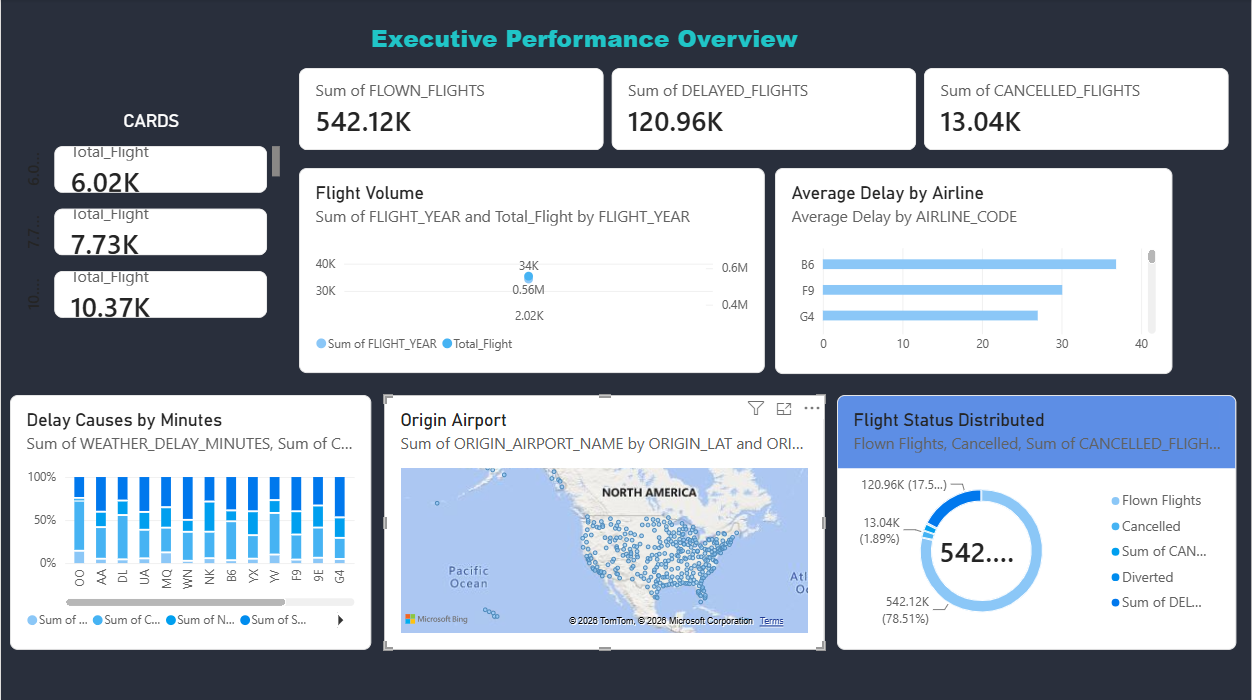

What the dashboard file says about the page in this screenshot:
{"tool":"powerbi","page":{"name":"Page 1","canvas":[1280,720],"ordinal":0},"visuals":[{"type":"textbox","box":[378.8,23.5,477.5,47.1],"z":0},{"type":"cardVisual","title":"CARDS","fields":{"Data":["FACT_FLIGHT_SUMMARY.Total_Flight"],"Rows":["FACT_FLIGHT_SUMMARY.TOTAL_FLIGHTS"]},"box":[21.3,113.2,264.5,221.9],"z":1000},{"type":"cardVisual","fields":{"Data":["Sum(FACT_FLIGHT_SUMMARY.FLOWN_FLIGHTS)","Sum(FACT_FLIGHT_SUMMARY.DELAYED_FLIGHTS)","Sum(FACT_FLIGHT_SUMMARY.CANCELLED_FLIGHTS)"]},"box":[304.9,70.6,953.8,84.1],"z":2000},{"type":"lineChart","title":"Flight Volume","fields":{"Category":["FACT_FLIGHT_SUMMARY.FLIGHT_YEAR"],"Y":["Sum(FACT_FLIGHT_SUMMARY.FLIGHT_YEAR)"],"Y2":["FACT_FLIGHT_SUMMARY.Total_Flight"]},"box":[305.2,173.1,477.2,209.9],"z":3000},{"type":"clusteredBarChart","title":"Average Delay by Airline","fields":{"Category":["DIM_AIRLINE.AIRLINE_CODE"],"Y":["AIRPORT_MONTHLY_PERFORMANCE.Average Delay"]},"box":[792.4,172.6,406.9,210.7],"z":4000},{"type":"hundredPercentStackedColumnChart","title":"Delay Causes by Minutes","fields":{"Category":["DIM_AIRLINE.AIRLINE_CODE"],"Y":["Sum(FACT_AIRLINE_DELAY_CAUSE.WEATHER_DELAY_MINUTES)","Sum(FACT_AIRLINE_DELAY_CAUSE.CARRIER_DELAY_MINUTES)","Sum(FACT_AIRLINE_DELAY_CAUSE.NAS_DELAY_MINUTES)","Sum(FACT_AIRLINE_DELAY_CAUSE.SECURITY_DELAY_MINUTES)","Sum(FACT_AIRLINE_DELAY_CAUSE.LATE_AIRCRAFT_DELAY_MINUTES)"]},"box":[9.2,405.5,369.7,261.1],"z":5000},{"type":"map","title":"Origin Airport","fields":{"X":["AIRPORT_MONTHLY_PERFORMANCE.ORIGIN_LON"],"Y":["AIRPORT_MONTHLY_PERFORMANCE.ORIGIN_LAT"]},"box":[392,405.6,451.3,260.7],"z":6000},{"type":"donutChart","title":"Flight Status Distributed","fields":{"Y":["FACT_FLIGHT_SUMMARY.Flown Flights","FACT_FLIGHT_SUMMARY.Cancelled","Sum(FACT_FLIGHT_SUMMARY.CANCELLED_FLIGHTS)","FACT_FLIGHT_SUMMARY.Diverted","Sum(FACT_FLIGHT_SUMMARY.DELAYED_FLIGHTS)"]},"box":[856.1,405.5,408.6,261.1],"z":7000}]}

Visuals, with their boxes in screenshot pixels (x1, y1, x2, y2), scaled from the page's 1280x720 canvas onto the 1252x700 screenshot:
textbox: rect(371, 23, 838, 69)
"CARDS" cardVisual: rect(21, 110, 280, 326)
cardVisual - Sum(FACT_FLIGHT_SUMMARY.FLOWN_FLIGHTS) x Sum(FACT_FLIGHT_SUMMARY.DELAYED_FLIGHTS): rect(298, 69, 1231, 150)
"Flight Volume" lineChart: rect(299, 168, 765, 372)
"Average Delay by Airline" clusteredBarChart: rect(775, 168, 1173, 373)
"Delay Causes by Minutes" hundredPercentStackedColumnChart: rect(9, 394, 371, 648)
"Origin Airport" map: rect(383, 394, 825, 648)
"Flight Status Distributed" donutChart: rect(837, 394, 1237, 648)
